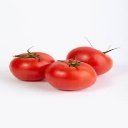tomato: (46, 60, 97, 93), (8, 52, 55, 82), (71, 47, 115, 74)
